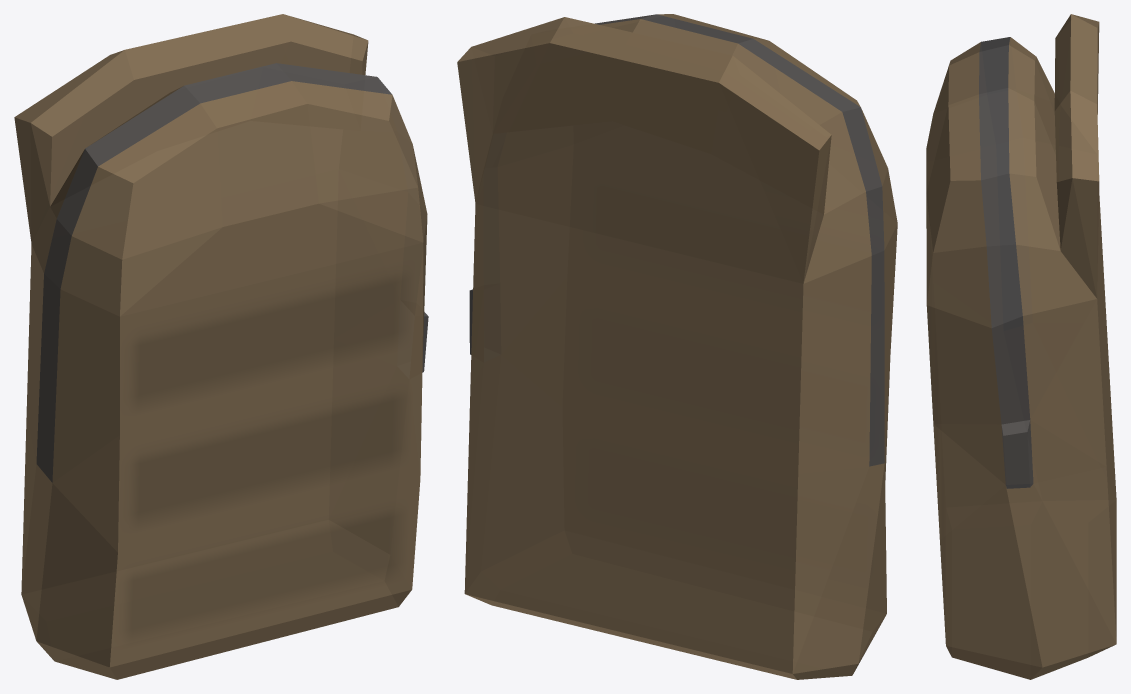
File: SM_Chr_Attach_Pouch_06.fbx
3 views of the same model, side by side, from view 1: azimuth 30°, elevation 25°; view 2: azimuth 150°, elevation 25°; view 3: azimuth 270°, elevation 25° (orthographic). The views are drawn at different scales.
Visible parts, largest first — view 1: SM_Chr_Attach_Pouch_06; view 2: SM_Chr_Attach_Pouch_06; view 3: SM_Chr_Attach_Pouch_06.
Boxes of the visible parts, box(x1,y1,x2,y2) form: SM_Chr_Attach_Pouch_06: box(14, 14, 428, 679); SM_Chr_Attach_Pouch_06: box(457, 14, 897, 679); SM_Chr_Attach_Pouch_06: box(926, 14, 1116, 679).
Bounding box in the file's own units: 16.39 × 23.84 × 7.42.
